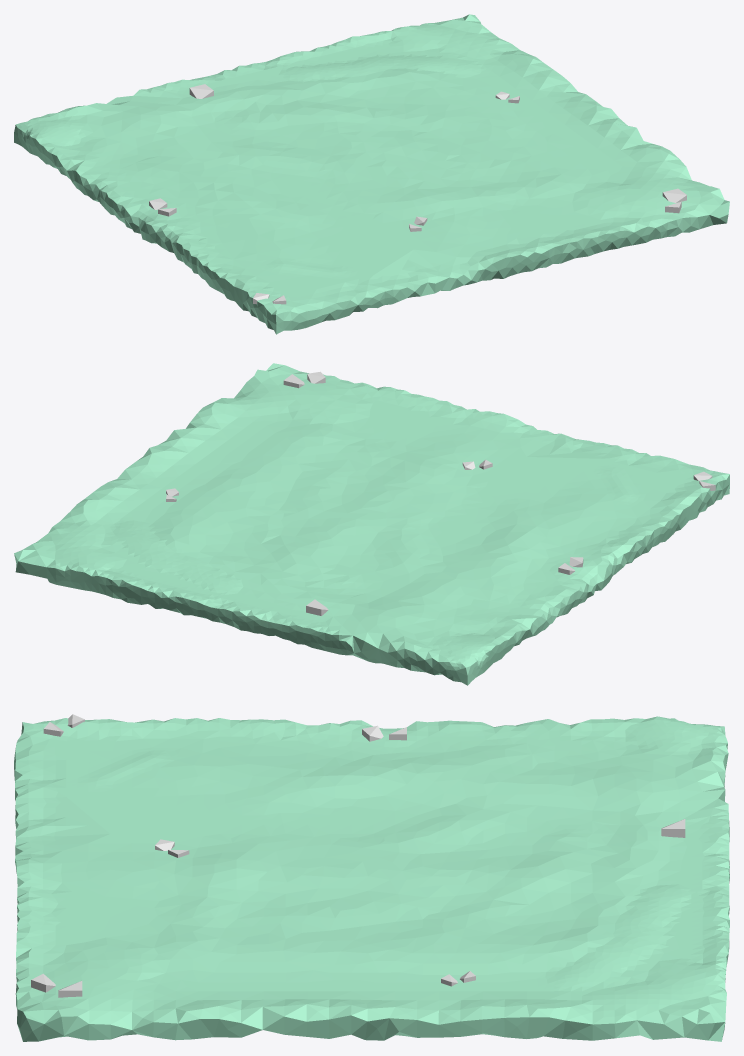
File: Ground.glb
3 views of the same model, one above another, from view 1: azimuth 30°, elevation 25°; view 2: azimuth 150°, elevation 25°; view 3: azimuth 270°, elevation 25° (orthographic). The views are drawn at different scales.
Parts seen in each view (by area): view 1: Cube; view 2: Cube; view 3: Cube.
Part boxes in pixels (bbox=[...]): Cube: bbox=[14, 14, 729, 334]; Cube: bbox=[14, 363, 729, 685]; Cube: bbox=[14, 716, 729, 1041].
Bounding box in the file's own units: 3.82 × 0.2208 × 3.79.
1 material, 1 textured.
